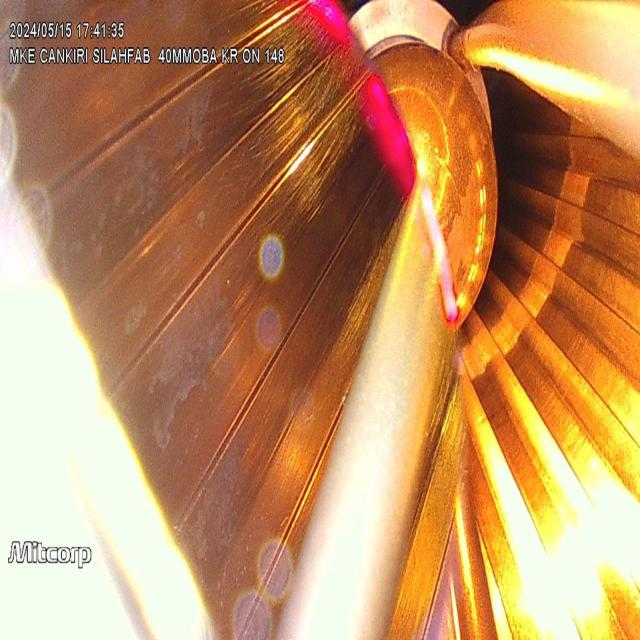hata_9.3: (91, 109, 250, 235), (128, 304, 267, 440), (173, 487, 250, 580)
